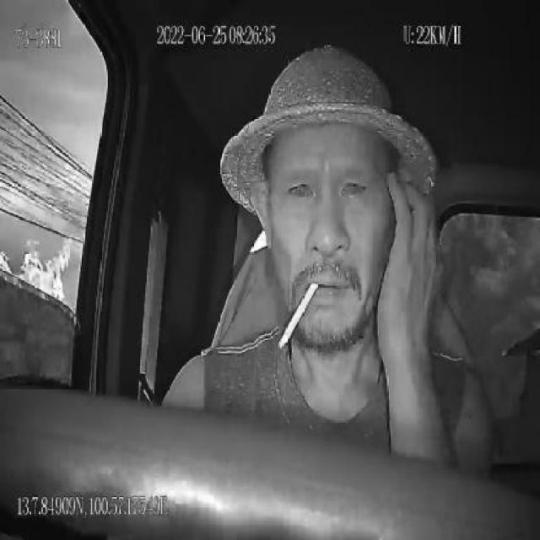smoking: (278, 280, 319, 354)
